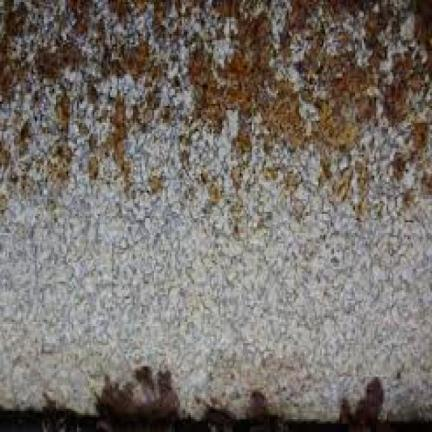karat: (0, 0, 431, 186)
